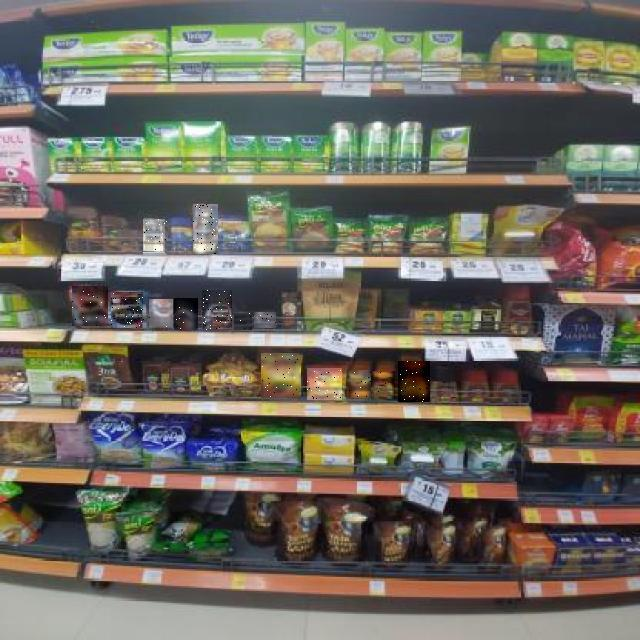Coffee: (261, 353, 299, 398), (72, 286, 108, 326), (398, 361, 430, 402), (193, 204, 218, 254), (112, 292, 146, 328), (202, 290, 232, 330), (307, 368, 342, 400), (144, 220, 168, 256), (174, 298, 198, 330), (372, 371, 398, 400), (149, 300, 173, 330), (347, 370, 371, 398), (255, 312, 277, 328), (234, 313, 252, 330)
